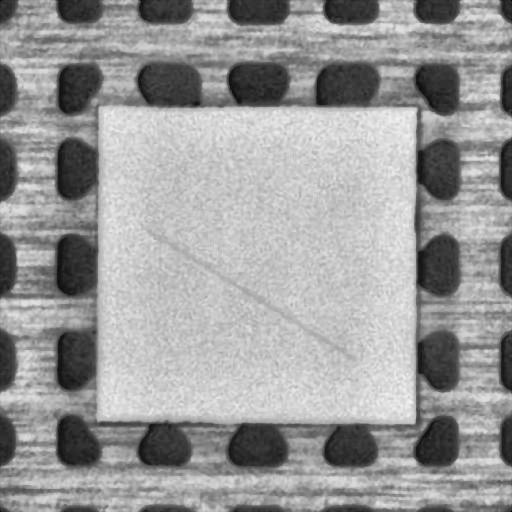DIE_CRACK: (145, 229, 351, 357)
